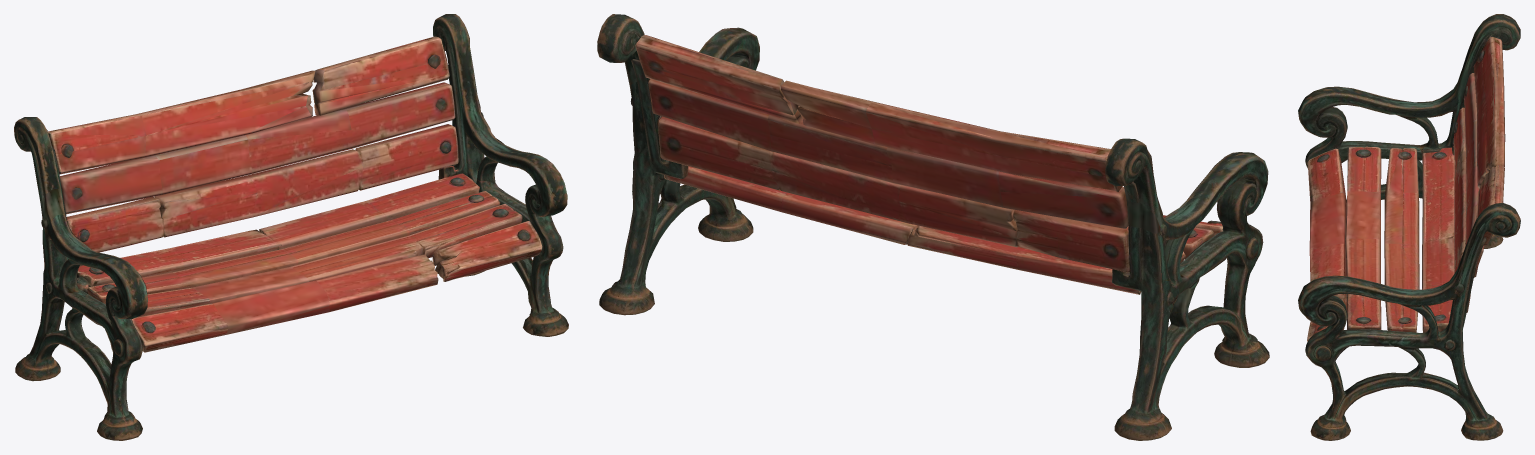
Rendered from town_bench.glb.
The picture shows the model from 3 angles, left to right: view 1: azimuth 30°, elevation 25°; view 2: azimuth 150°, elevation 25°; view 3: azimuth 270°, elevation 25°; orthographic projection. The views are drawn at different scales.
Bounding box in the file's own units: 0.9546 × 0.48 × 0.4287.
1 material, 1 textured.
